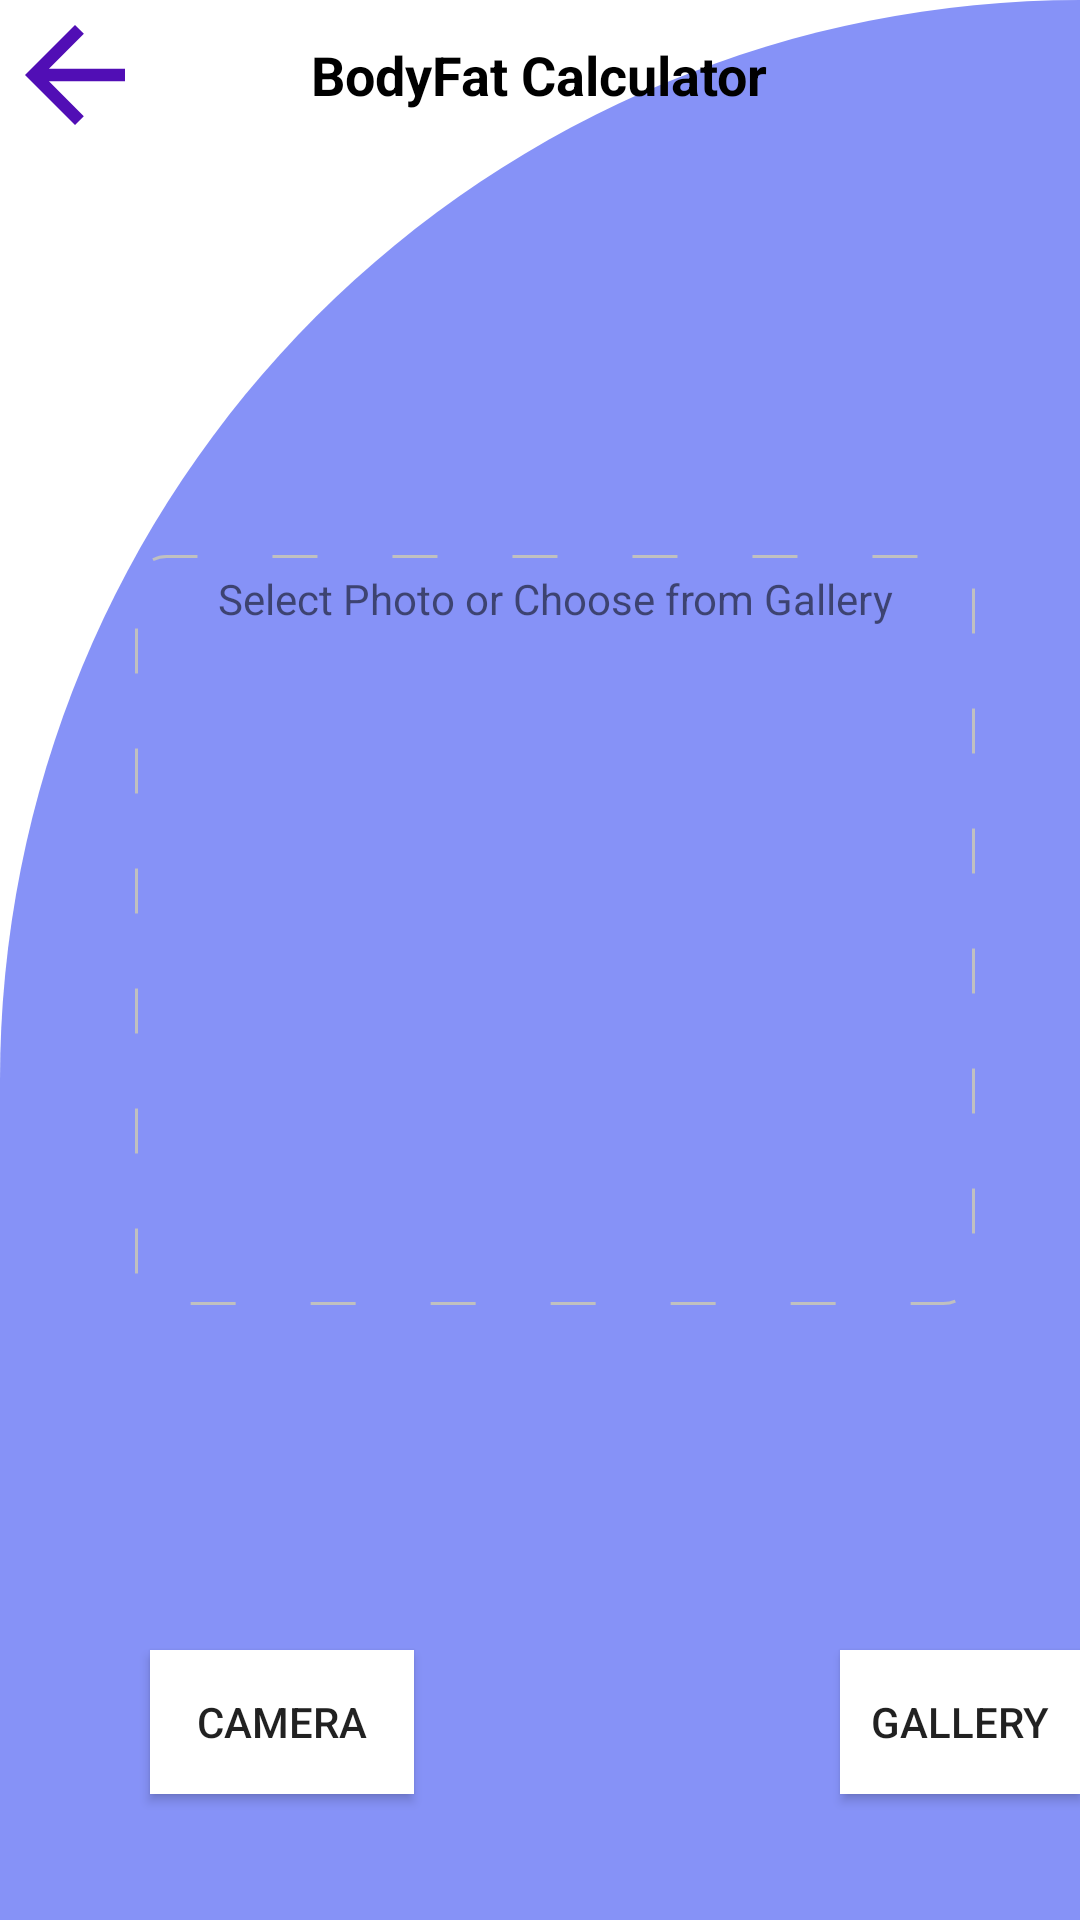

Icon click points for this 1080*1920 phone screenshot, format [x,y]:
arrow: [75,75]
